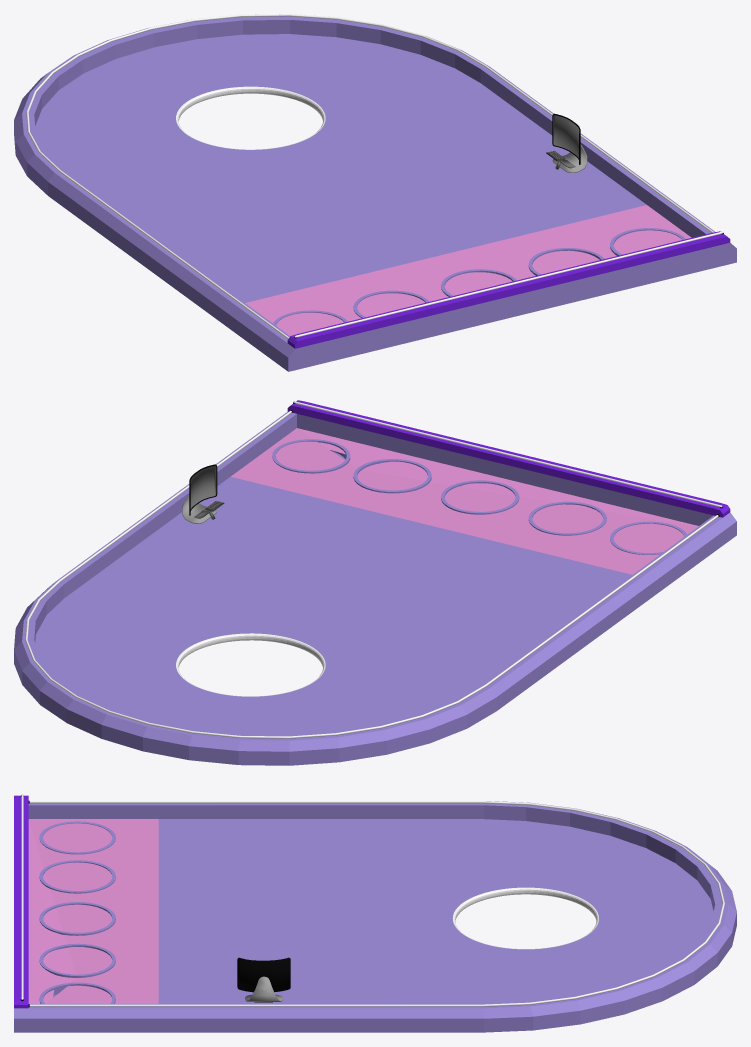
File: 5HolePlatform.fbx
3 renders of one model, top to bottom at view 1: azimuth 30°, elevation 25°; view 2: azimuth 150°, elevation 25°; view 3: azimuth 270°, elevation 25°, orthographic. The views are drawn at different scales.
Visible parts, largest first — view 1: 5HolePlatform, Bilgisayar; view 2: 5HolePlatform, Bilgisayar; view 3: 5HolePlatform, Bilgisayar.
Boxes of the visible parts, x1,y1,x2,y2 form: 5HolePlatform: (14, 14, 736, 371); Bilgisayar: (546, 113, 587, 172); 5HolePlatform: (14, 400, 736, 765); Bilgisayar: (182, 464, 224, 523); 5HolePlatform: (14, 794, 736, 1032); Bilgisayar: (237, 957, 290, 1002).
Bounding box in the file's own units: 2504 × 298 × 3576.
